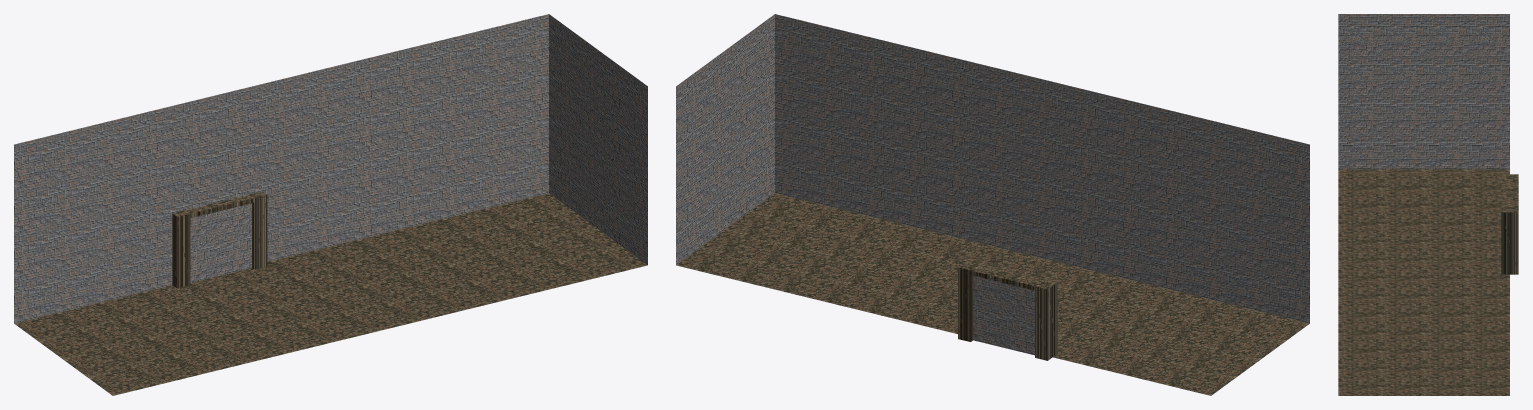
The model's file is room.gltf.
3 renders of one model, left to right at view 1: azimuth 30°, elevation 25°; view 2: azimuth 150°, elevation 25°; view 3: azimuth 270°, elevation 25°, orthographic. The views are drawn at different scales.
Visible parts, largest first — view 1: parent, door_door, door_impl; view 2: parent, door_door, door_impl; view 3: parent, door_impl.
Boxes of the visible parts, box(x1,y1,x2,y2) form: parent: box(14, 14, 647, 395); door_door: box(190, 203, 251, 282); door_impl: box(172, 191, 267, 288); parent: box(676, 14, 1309, 395); door_door: box(973, 275, 1034, 355); door_impl: box(958, 260, 1057, 360); parent: box(1338, 14, 1509, 395); door_impl: box(1501, 174, 1518, 274).
Bounding box in the file's own units: 12.5 × 4 × 4.2.
